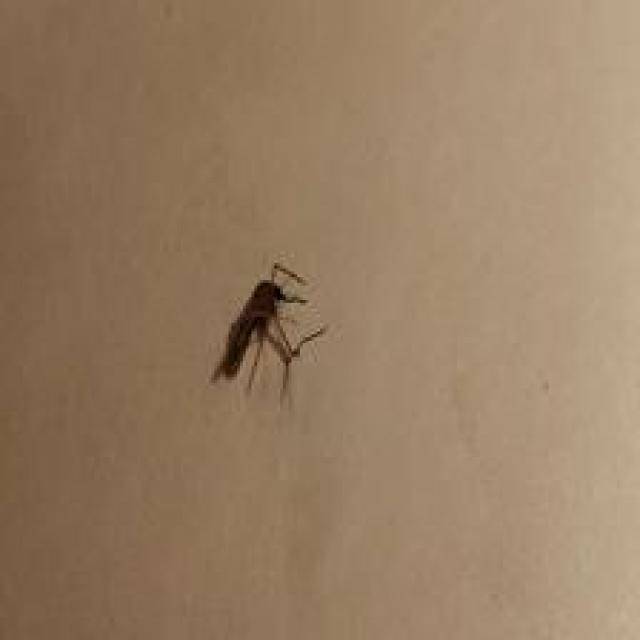Culex: (210, 260, 327, 409)
